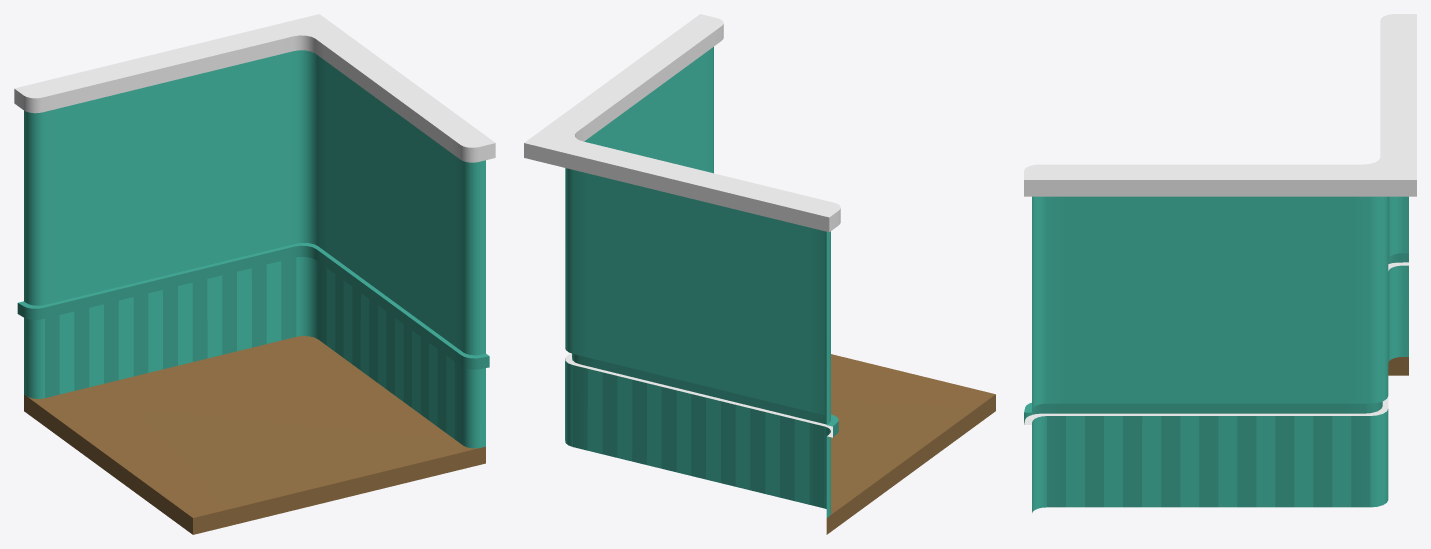
The picture shows the model from 3 angles, left to right: view 1: azimuth 30°, elevation 25°; view 2: azimuth 150°, elevation 25°; view 3: azimuth 270°, elevation 25°; orthographic projection. The views are drawn at different scales.
Parts seen in each view (by area): view 1: Base; view 2: Base; view 3: Base.
Part boxes in pixels (left/top/right/bottom): Base: left=14, top=14, right=495, bottom=534; Base: left=524, top=14, right=995, bottom=534; Base: left=1024, top=14, right=1416, bottom=512.
Bounding box in the file's own units: 225 × 227 × 225.
